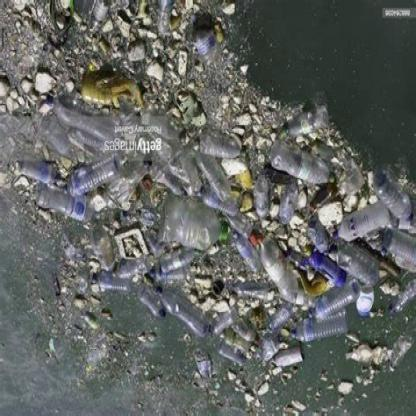Metal: (12, 160, 53, 183), (271, 347, 307, 372)
Plastic: (251, 230, 302, 303), (159, 198, 224, 251), (270, 146, 335, 190), (369, 170, 416, 228), (335, 203, 394, 248), (327, 238, 382, 286), (49, 104, 117, 142), (93, 120, 175, 150), (81, 73, 143, 112), (162, 295, 214, 340), (69, 156, 119, 202), (294, 310, 349, 348), (33, 191, 95, 222), (305, 249, 350, 291), (169, 152, 208, 198), (229, 231, 267, 277), (270, 112, 332, 140), (309, 289, 362, 317), (87, 228, 119, 273), (380, 227, 416, 264), (387, 330, 415, 377), (40, 113, 68, 158), (202, 160, 234, 199), (199, 134, 242, 163), (192, 30, 223, 70), (114, 154, 143, 195), (137, 284, 166, 322), (258, 307, 291, 339), (156, 248, 197, 273), (206, 308, 236, 340), (122, 257, 165, 278), (389, 277, 416, 310), (279, 187, 301, 227), (90, 274, 132, 293), (255, 172, 270, 224), (191, 349, 213, 383), (156, 0, 176, 35), (218, 342, 244, 368)
Trash: (233, 154, 258, 193)
